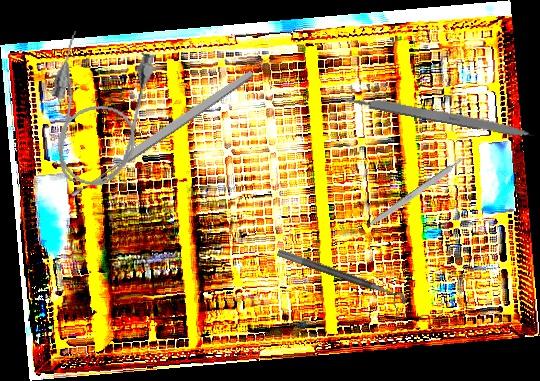Cannula: (36, 28, 158, 193)
Fixation Ring: (272, 248, 409, 314)
Scalpel Handle: (342, 90, 537, 141), (365, 155, 468, 231)
Surgical Spoon: (68, 68, 256, 200)
